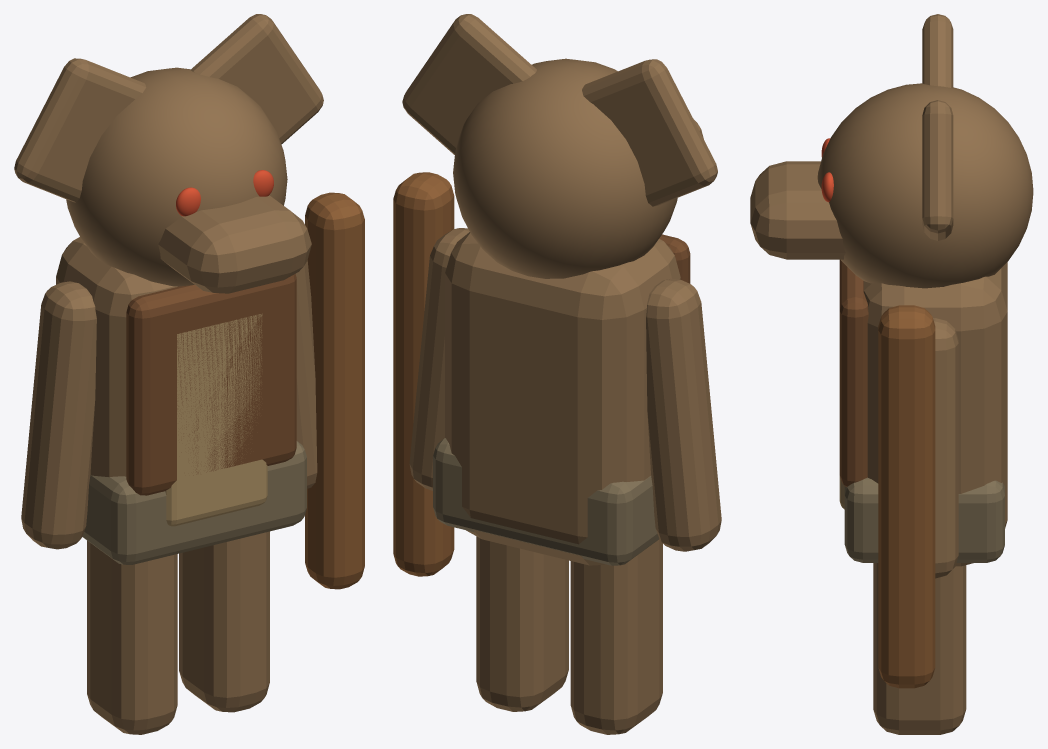
The model's file is kobold_thug_4004.glb.
3 views of the same model, side by side, from view 1: azimuth 30°, elevation 25°; view 2: azimuth 150°, elevation 25°; view 3: azimuth 270°, elevation 25° (orthographic). The views are drawn at different scales.
Parts seen in each view (by area): view 1: Head, Thug leather harness, Thug cudgel, Kobold arm, Belly scales, Clawed leg, Clawed leg.001, Rag waist wrap, Dog-like muzzle, Perked pointed ear, Scaled kobold torso, Perked pointed ear.001 (+2 smaller); view 2: Scaled kobold torso, Head, Kobold arm, Clawed leg, Thug cudgel, Clawed leg.001, Perked pointed ear, Perked pointed ear.001, Rag waist wrap, Kobold arm.001, Thug leather harness; view 3: Head, Thug cudgel, Scaled kobold torso, Clawed leg.001, Dog-like muzzle, Rag waist wrap, Thug leather harness, Kobold arm.001, Perked pointed ear.001, Perked pointed ear.
Part boxes in pixels (x1=…): Head: x1=66, y1=67, x2=287, y2=286; Thug leather harness: x1=126, y1=274, x2=296, y2=495; Thug cudgel: x1=305, y1=192, x2=364, y2=589; Kobold arm: x1=21, y1=281, x2=96, y2=549; Belly scales: x1=165, y1=313, x2=267, y2=526; Clawed leg: x1=87, y1=540, x2=177, y2=734; Clawed leg.001: x1=179, y1=531, x2=269, y2=712; Rag waist wrap: x1=82, y1=441, x2=306, y2=564; Dog-like muzzle: x1=158, y1=195, x2=311, y2=293; Perked pointed ear: x1=14, y1=58, x2=146, y2=202; Scaled kobold torso: x1=56, y1=237, x2=177, y2=476; Perked pointed ear.001: x1=190, y1=14, x2=323, y2=144; Scaled kobold torso: x1=445, y1=232, x2=680, y2=565; Head: x1=453, y1=58, x2=677, y2=278; Kobold arm: x1=646, y1=278, x2=721, y2=551; Clawed leg: x1=570, y1=539, x2=662, y2=734; Thug cudgel: x1=393, y1=172, x2=454, y2=576; Clawed leg.001: x1=476, y1=536, x2=568, y2=711; Perked pointed ear: x1=582, y1=59, x2=717, y2=206; Perked pointed ear.001: x1=402, y1=14, x2=536, y2=154; Rag waist wrap: x1=433, y1=438, x2=659, y2=565; Kobold arm.001: x1=409, y1=228, x2=469, y2=490; Thug leather harness: x1=659, y1=234, x2=690, y2=283; Head: x1=817, y1=83, x2=1033, y2=288; Thug cudgel: x1=878, y1=305, x2=935, y2=688; Scaled kobold torso: x1=863, y1=262, x2=1007, y2=566; Clawed leg.001: x1=873, y1=563, x2=966, y2=734; Dog-like muzzle: x1=750, y1=161, x2=845, y2=259; Rag waist wrap: x1=844, y1=477, x2=1004, y2=562; Thug leather harness: x1=839, y1=259, x2=868, y2=486; Kobold arm.001: x1=933, y1=318, x2=958, y2=578; Perked pointed ear.001: x1=922, y1=100, x2=953, y2=240; Perked pointed ear: x1=922, y1=14, x2=953, y2=87.
Bounding box in the file's own units: 1.41 × 2.77 × 1.1.
